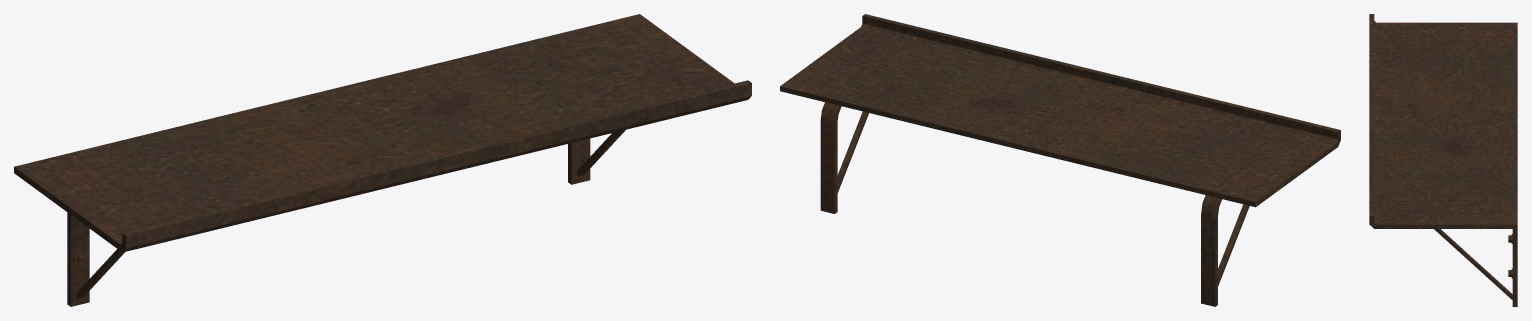
Rendered from hanging_shelf_mx_1.obj.
3 views of the same model, side by side, from view 1: azimuth 30°, elevation 25°; view 2: azimuth 150°, elevation 25°; view 3: azimuth 270°, elevation 25° (orthographic). The views are drawn at different scales.
Parts seen in each view (by area): view 1: hanging_shelf_mx_1; view 2: hanging_shelf_mx_1; view 3: hanging_shelf_mx_1.
Boxes of the visible parts, x1=… form: hanging_shelf_mx_1: x1=14, y1=14, x2=751, y2=306; hanging_shelf_mx_1: x1=780, y1=14, x2=1340, y2=306; hanging_shelf_mx_1: x1=1369, y1=14, x2=1517, y2=306.
Size of the model in its own units: 1 by 0.25 by 0.31.
